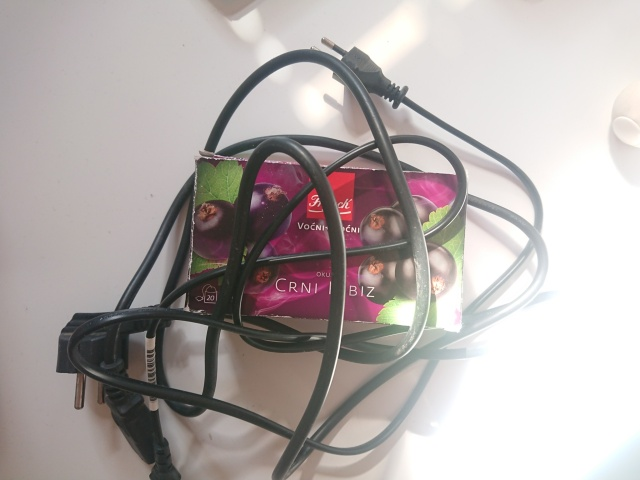Franck Black Currant Tea 60g: (182, 148, 472, 337)
